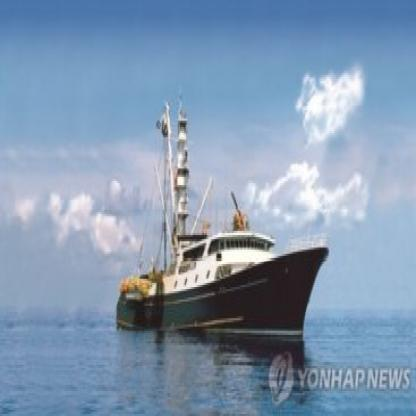fish-b: (110, 77, 332, 358)
